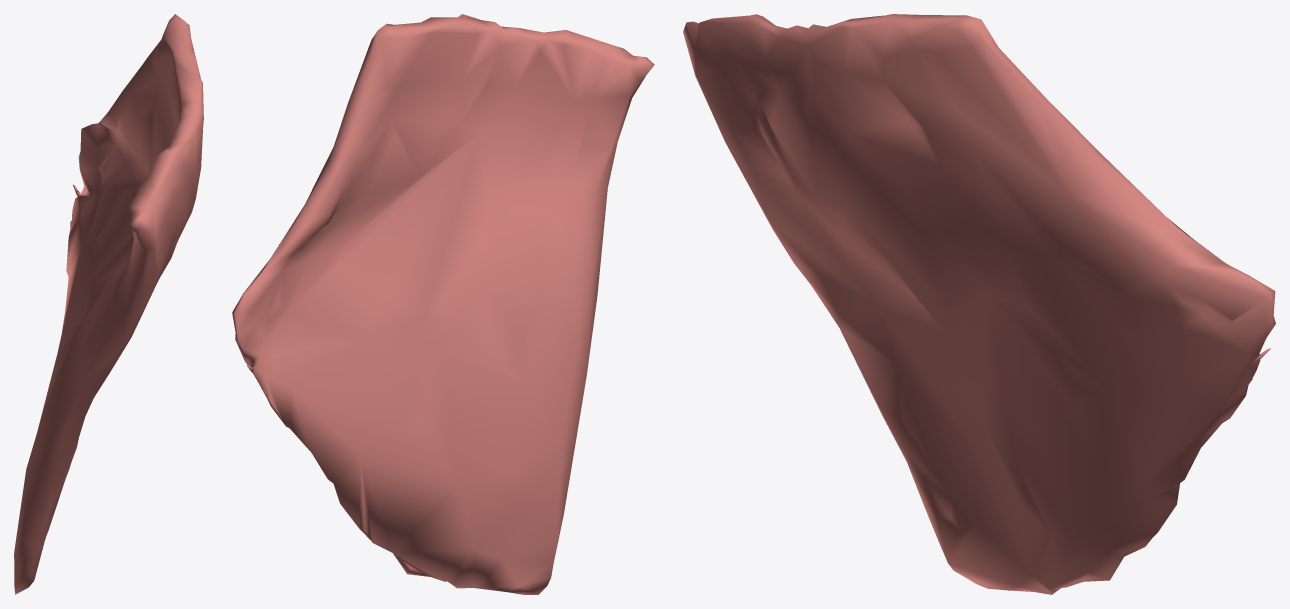
The picture shows the model from 3 angles, left to right: view 1: azimuth 30°, elevation 25°; view 2: azimuth 150°, elevation 25°; view 3: azimuth 270°, elevation 25°; orthographic projection. The views are drawn at different scales.
Parts seen in each view (by area): view 1: ZA_a1c60a10e94cadc1; view 2: ZA_a1c60a10e94cadc1; view 3: ZA_a1c60a10e94cadc1.
Boxes of the visible parts, x1,y1,x2,y2 form: ZA_a1c60a10e94cadc1: (14, 14, 203, 594); ZA_a1c60a10e94cadc1: (232, 14, 654, 594); ZA_a1c60a10e94cadc1: (683, 14, 1275, 594).
Size of the model in its own units: 0.0123 by 0.0308 by 0.025.
